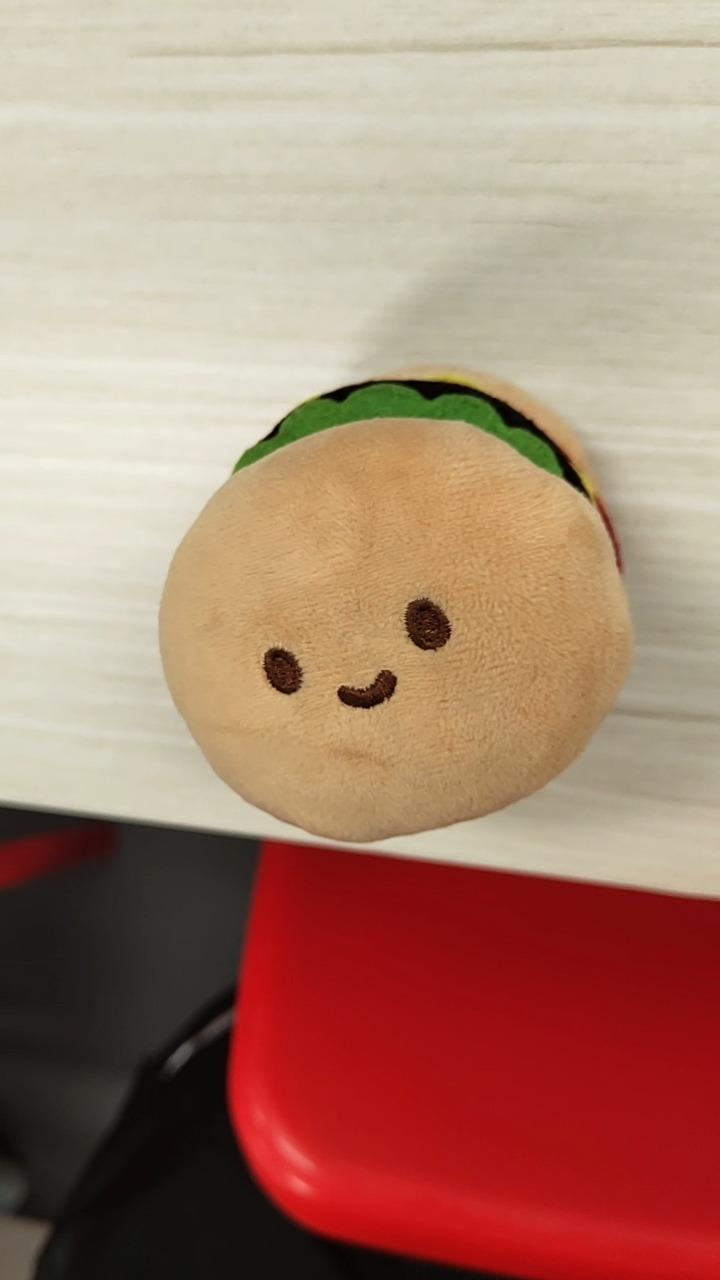hamburger: (156, 364, 634, 844)
